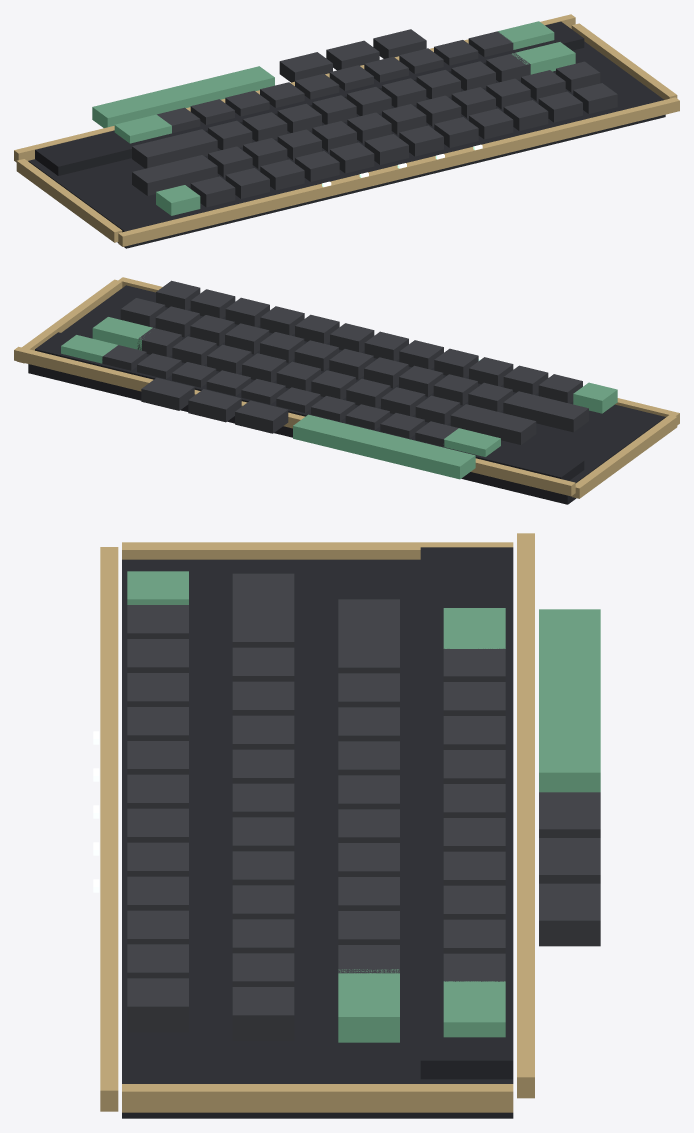
The model's file is looplings_keyboard.glb.
3 renders of one model, top to bottom at view 1: azimuth 30°, elevation 25°; view 2: azimuth 150°, elevation 25°; view 3: azimuth 270°, elevation 25°, orthographic. The views are drawn at different scales.
Parts seen in each view (by area): view 1: LooplingsKeyboard_Chassis, LooplingsKeyboard_FrontBrassLip, LooplingsKeyboard_RearLift, Key_SPACE, LooplingsKeyboard_LeftBrassLip, LooplingsKeyboard_RightBrassLip, Key_TAB, Key_CAPS, Key_RETURN, Key_ALT, Key_SHIFT, LooplingsKeyboard_BackBrassLip (+48 smaller); view 2: LooplingsKeyboard_Chassis, Key_SPACE, LooplingsKeyboard_RearLift, LooplingsKeyboard_BackBrassLip, LooplingsKeyboard_LeftBrassLip, Key_TAB, Key_CAPS, LooplingsKeyboard_RightBrassLip, Key_ALT, Key_CTRL, Key_FN, Key_RETURN (+48 smaller); view 3: LooplingsKeyboard_Chassis, LooplingsKeyboard_RearLift, Key_SPACE, LooplingsKeyboard_RightBrassLip, LooplingsKeyboard_FrontBrassLip, LooplingsKeyboard_BackBrassLip, LooplingsKeyboard_LeftBrassLip, Key_RETURN, Key_CTRL, Key_SHIFT_R, Key_=, Key_] (+48 smaller).
Boxes of the visible parts, x1=… form: LooplingsKeyboard_Chassis: x1=28, y1=41, x2=665, y2=248; LooplingsKeyboard_FrontBrassLip: x1=118, y1=97, x2=679, y2=246; LooplingsKeyboard_RearLift: x1=35, y1=21, x2=584, y2=175; Key_SPACE: x1=92, y1=66, x2=274, y2=127; LooplingsKeyboard_LeftBrassLip: x1=16, y1=159, x2=122, y2=242; LooplingsKeyboard_RightBrassLip: x1=571, y1=23, x2=677, y2=99; Key_TAB: x1=132, y1=162, x2=189, y2=195; Key_CAPS: x1=132, y1=136, x2=189, y2=168; Key_RETURN: x1=512, y1=42, x2=575, y2=74; Key_ALT: x1=279, y1=52, x2=332, y2=82; Key_SHIFT: x1=114, y1=114, x2=171, y2=143; LooplingsKeyboard_BackBrassLip: x1=14, y1=14, x2=575, y2=162; LooplingsKeyboard_Chassis: x1=28, y1=285, x2=665, y2=504; Key_SPACE: x1=293, y1=414, x2=475, y2=479; LooplingsKeyboard_RearLift: x1=35, y1=332, x2=584, y2=495; LooplingsKeyboard_BackBrassLip: x1=14, y1=346, x2=575, y2=496; LooplingsKeyboard_LeftBrassLip: x1=571, y1=415, x2=677, y2=498; Key_TAB: x1=531, y1=398, x2=588, y2=432; Key_CAPS: x1=478, y1=411, x2=536, y2=444; LooplingsKeyboard_RightBrassLip: x1=17, y1=279, x2=122, y2=363; Key_ALT: x1=235, y1=400, x2=288, y2=433; Key_CTRL: x1=141, y1=377, x2=194, y2=410; Key_FN: x1=188, y1=389, x2=241, y2=422; Key_RETURN: x1=92, y1=317, x2=152, y2=350; LooplingsKeyboard_Chassis: x1=122, y1=559, x2=513, y2=1118; LooplingsKeyboard_RearLift: x1=420, y1=547, x2=513, y2=1079; Key_SPACE: x1=539, y1=609, x2=600, y2=792; LooplingsKeyboard_RightBrassLip: x1=122, y1=1084, x2=513, y2=1112; LooplingsKeyboard_FrontBrassLip: x1=100, y1=547, x2=118, y2=1111; LooplingsKeyboard_BackBrassLip: x1=517, y1=533, x2=534, y2=1098; LooplingsKeyboard_LeftBrassLip: x1=122, y1=542, x2=513, y2=559; Key_RETURN: x1=338, y1=969, x2=399, y2=1042; Key_CTRL: x1=539, y1=883, x2=600, y2=946; Key_SHIFT_R: x1=443, y1=981, x2=505, y2=1037; Key_=: x1=127, y1=978, x2=188, y2=1032; Key_]: x1=232, y1=987, x2=294, y2=1040.
Size of the model in its own units: 2.53 by 0.1425 by 0.986.
